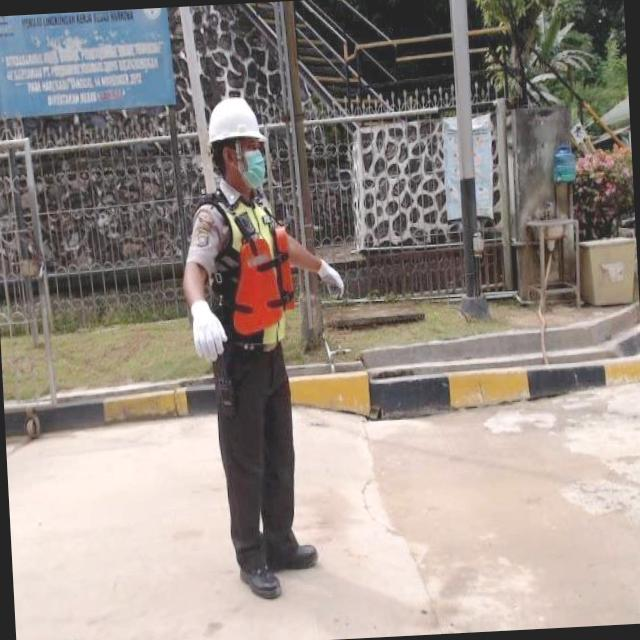vest: (203, 180, 302, 343)
